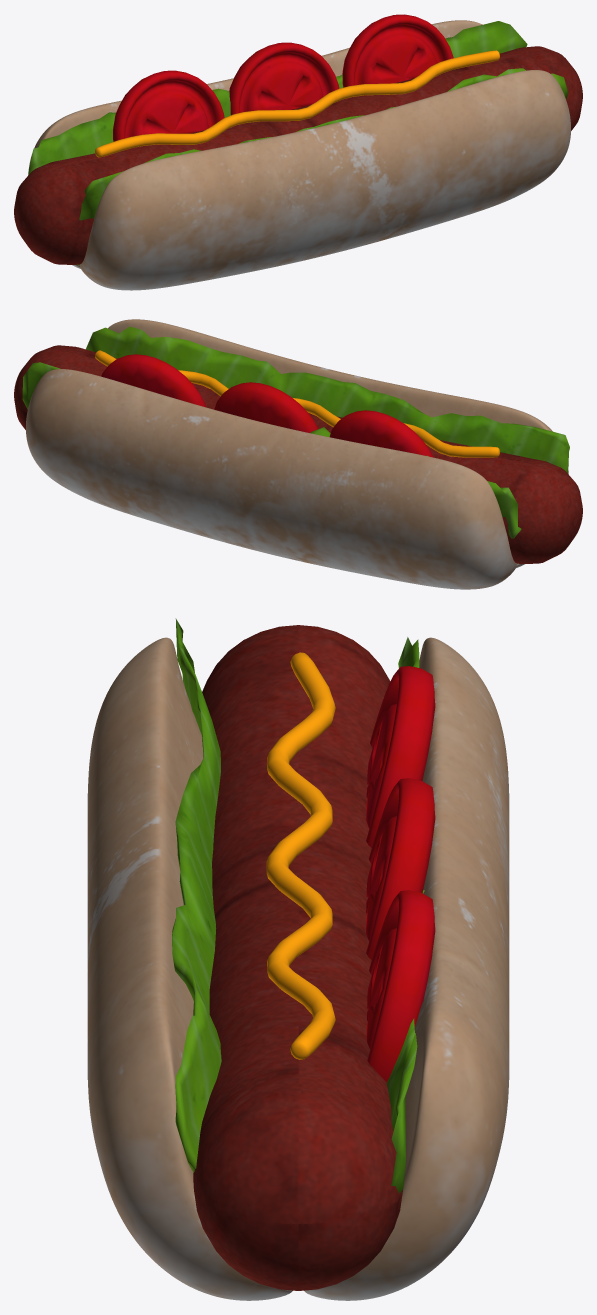
The model's file is Hot dog con ensalada.glb.
3 renders of one model, top to bottom at view 1: azimuth 30°, elevation 25°; view 2: azimuth 150°, elevation 25°; view 3: azimuth 270°, elevation 25°, orthographic. The views are drawn at different scales.
Parts seen in each view (by area): view 1: Bun.001, HotDog.001, Lettuce.002, Tomato2, Tomato1, Tomato3, Mustard.001; view 2: Bun.001, Lettuce.002, HotDog.001, Tomato2, Tomato1, Tomato3, Mustard.001; view 3: Bun.001, HotDog.001, Lettuce.002, Mustard.001, Tomato1, Tomato2, Tomato3.
Boxes of the visible parts, x1=… form: Bun.001: x1=28, y1=20, x2=570, y2=290; HotDog.001: x1=14, y1=46, x2=582, y2=264; Lettuce.002: x1=28, y1=21, x2=568, y2=265; Tomato2: x1=229, y1=42, x2=339, y2=115; Tomato1: x1=342, y1=14, x2=453, y2=87; Tomato3: x1=113, y1=70, x2=224, y2=141; Mustard.001: x1=95, y1=50, x2=499, y2=157; Bun.001: x1=26, y1=319, x2=568, y2=589; Lettuce.002: x1=22, y1=326, x2=569, y2=563; HotDog.001: x1=14, y1=345, x2=582, y2=564; Tomato2: x1=214, y1=382, x2=318, y2=432; Tomato1: x1=101, y1=354, x2=206, y2=407; Tomato3: x1=329, y1=410, x2=433, y2=457; Mustard.001: x1=95, y1=350, x2=499, y2=457; Bun.001: x1=87, y1=637, x2=509, y2=1300; HotDog.001: x1=193, y1=625, x2=402, y2=1290; Lettuce.002: x1=172, y1=618, x2=424, y2=1192; Mustard.001: x1=266, y1=652, x2=335, y2=1059; Tomato1: x1=366, y1=890, x2=435, y2=1082; Tomato2: x1=366, y1=778, x2=435, y2=959; Tomato3: x1=366, y1=666, x2=435, y2=847.
Size of the model in its own units: 8.06 by 2.45 by 2.67.
Materials: 1 (1 with a texture image).
